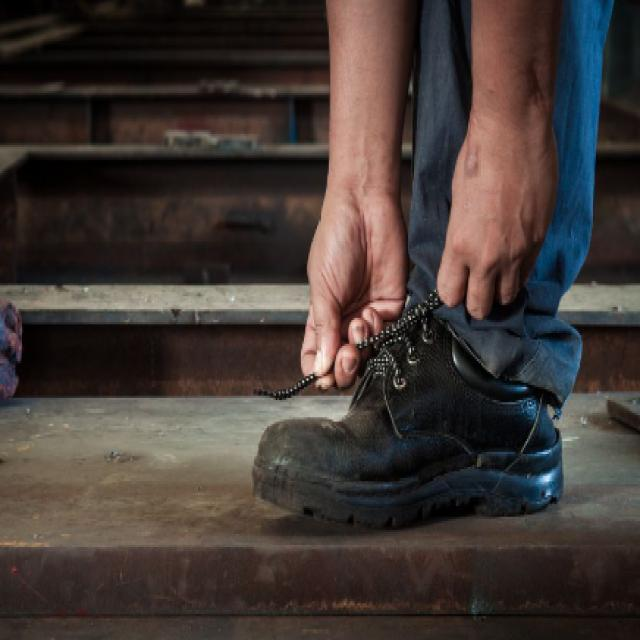boots: (242, 282, 576, 536)
